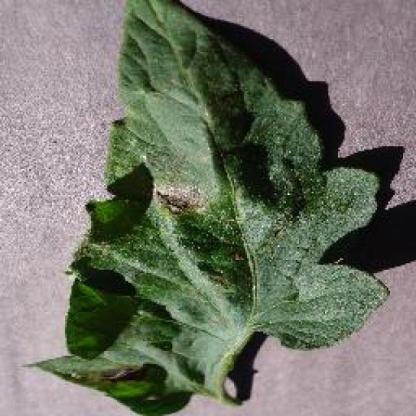Tomato_Blight: (25, 0, 382, 400)
